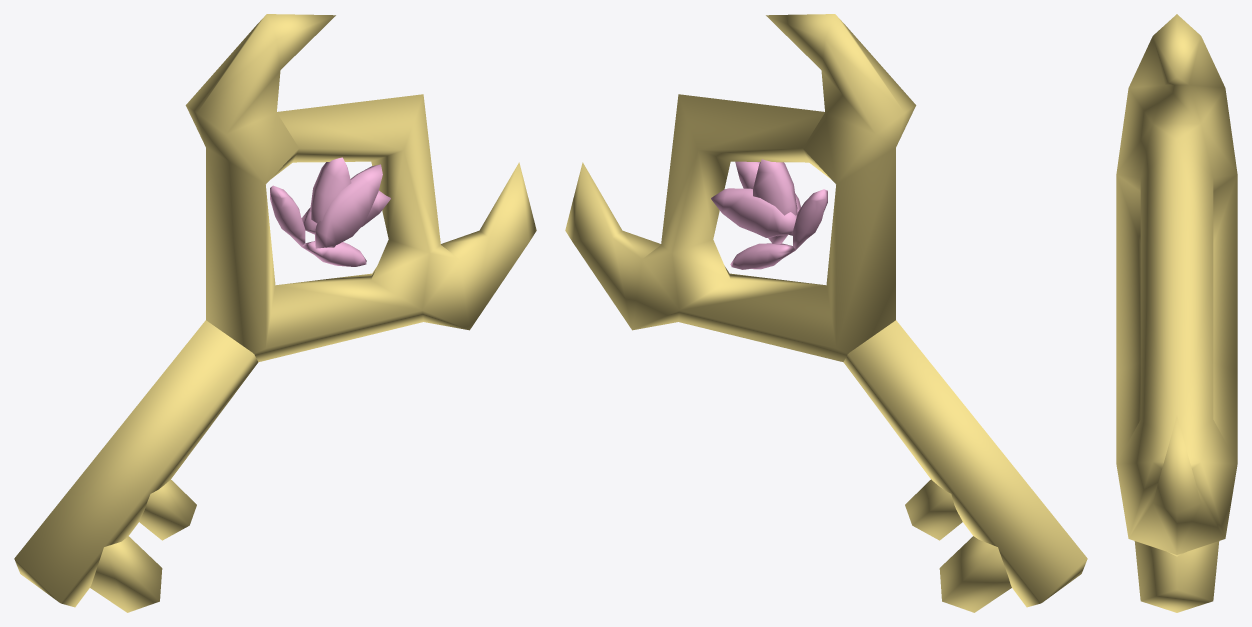
Rendered from WoodfallBossKey.glb.
3 views of the same model, side by side, from view 1: azimuth 30°, elevation 25°; view 2: azimuth 150°, elevation 25°; view 3: azimuth 270°, elevation 25° (orthographic). The views are drawn at different scales.
Parts seen in each view (by area): view 1: WoodfallBossKey; view 2: WoodfallBossKey; view 3: WoodfallBossKey.
Part boxes in pixels (x1,y1,x2,y2): WoodfallBossKey: (14, 14, 536, 612); WoodfallBossKey: (565, 14, 1087, 612); WoodfallBossKey: (1116, 14, 1237, 612).
Bounding box in the file's own units: 60 × 62 × 10.
